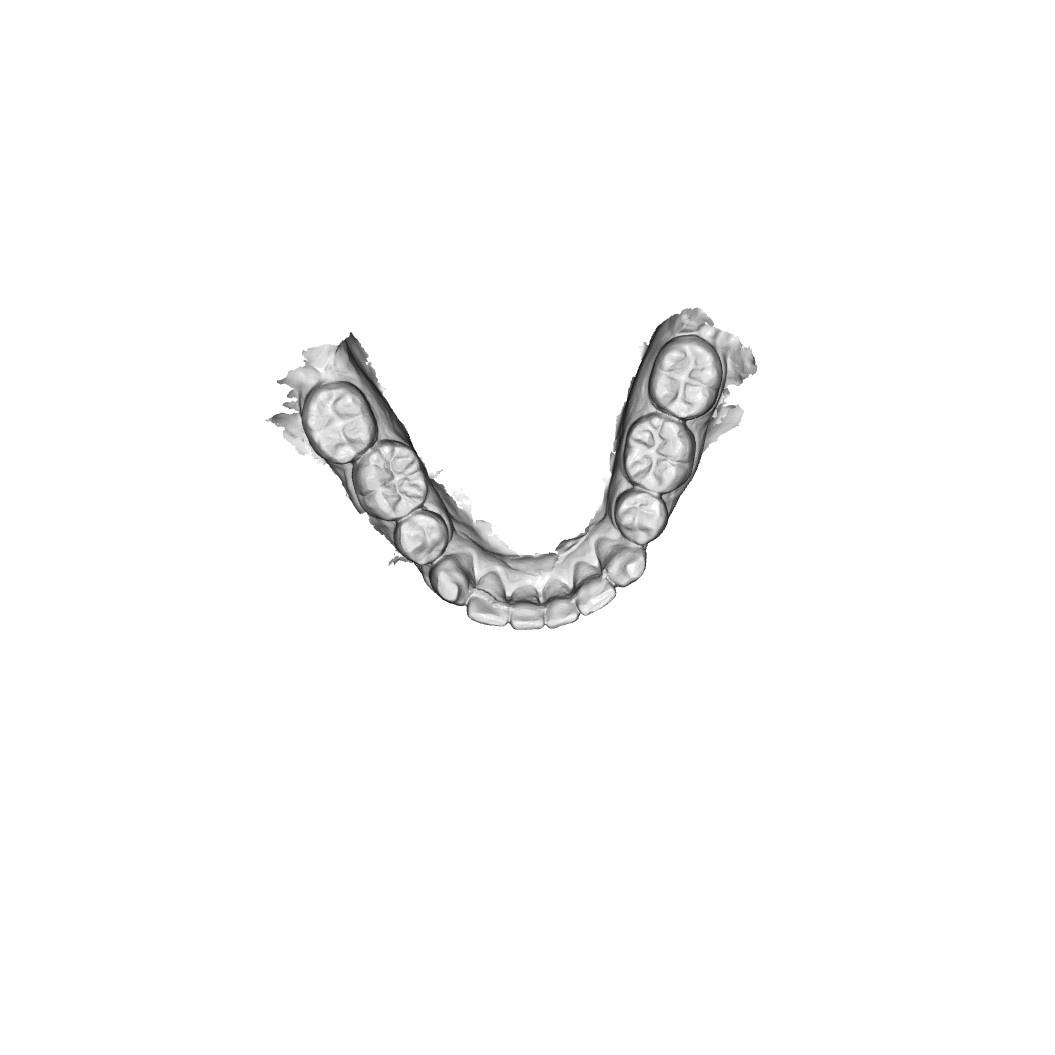canine: (594, 535, 649, 588), (428, 554, 470, 610)
incisor: (465, 574, 514, 632), (574, 565, 618, 618), (542, 575, 583, 627), (508, 587, 546, 639)
molar: (645, 334, 728, 418), (307, 384, 376, 464), (357, 448, 433, 518), (624, 415, 691, 493)
premolar: (394, 507, 450, 566), (618, 491, 668, 547)
